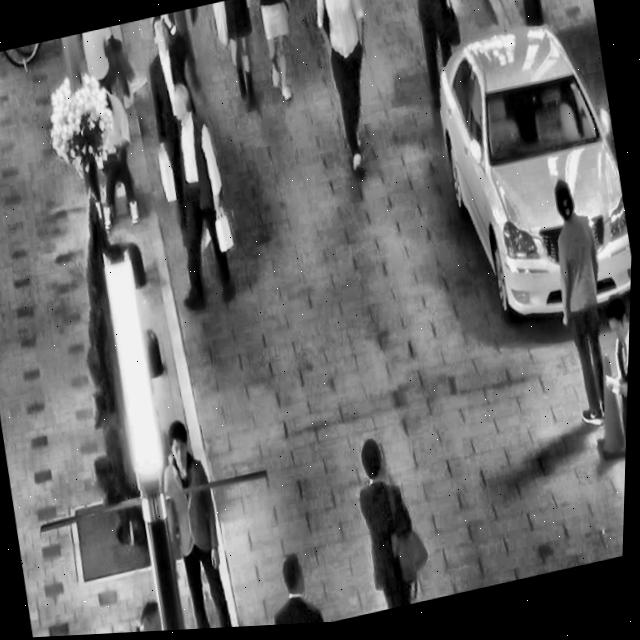light_vehicle: (414, 0, 639, 353)
